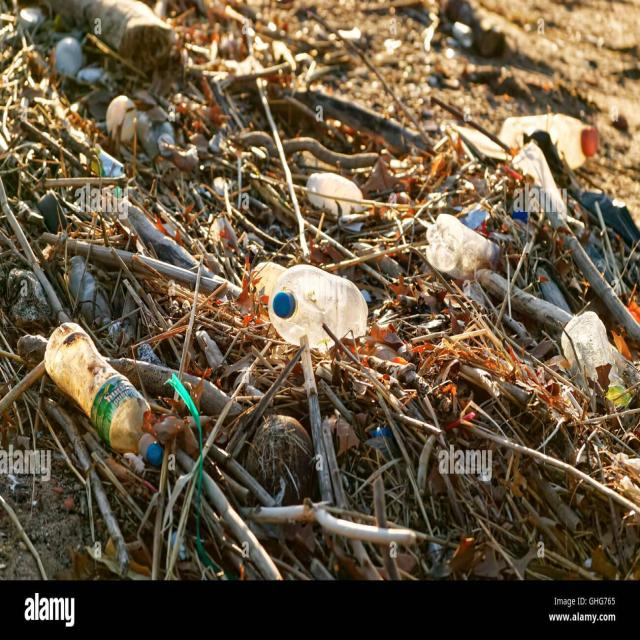bottle: (40, 319, 174, 463), (259, 262, 373, 351), (556, 303, 634, 409), (413, 194, 489, 293), (499, 111, 602, 174), (63, 253, 114, 331)
